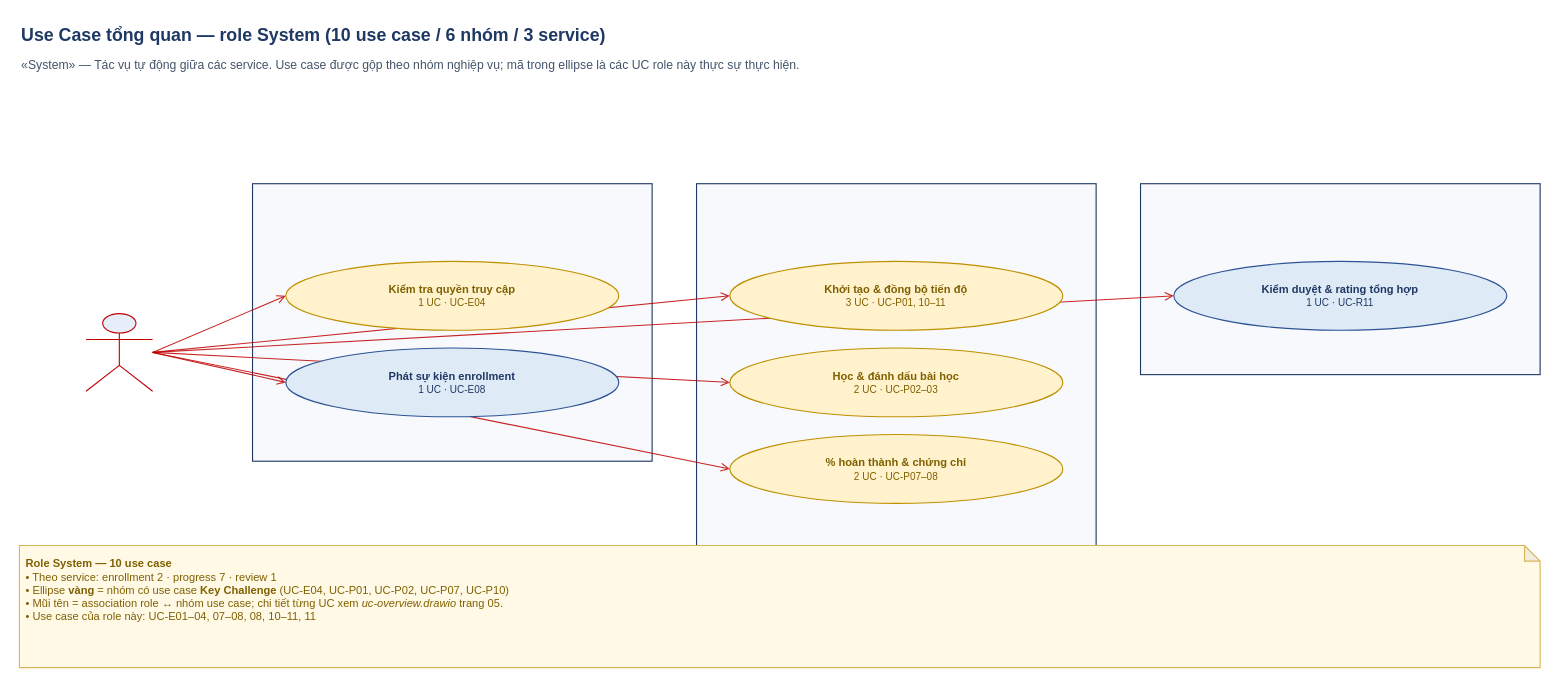
Image size: 1560x687. Some labels were removed from this diagram. The box of each missing label's shape, as (x1, y1, x2, y2) in pixels:
System: (85, 312, 153, 391)
«system» enrollment-service: (251, 183, 652, 461)
«system» progress-service: (695, 183, 1096, 548)
«system» review-rating-service: (1139, 183, 1540, 375)
